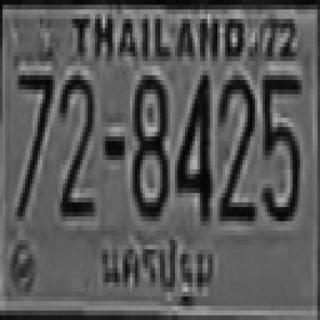N02: (219, 73, 255, 221), (59, 73, 95, 218)
N04: (176, 73, 211, 219)
N05: (261, 70, 300, 222)
N07: (15, 70, 52, 216)
N08: (132, 73, 169, 218)
P28: (98, 230, 215, 304)
